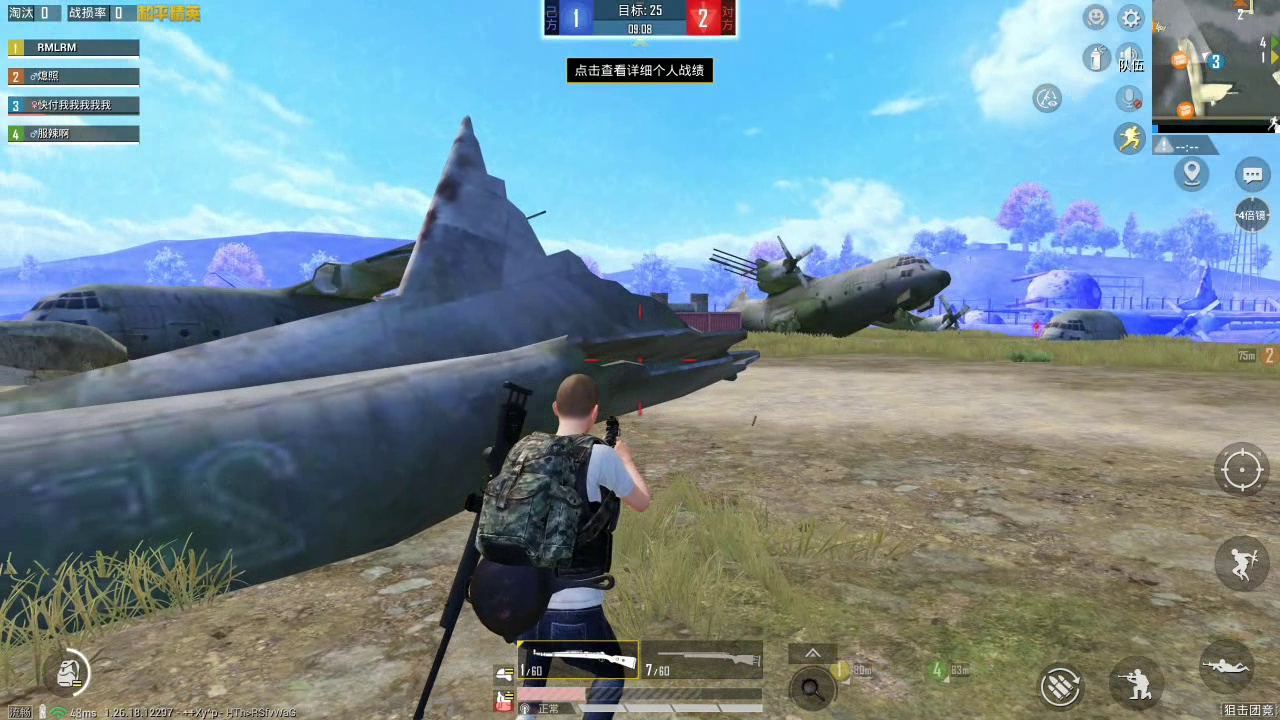enemy: (1031, 320, 1043, 338)
